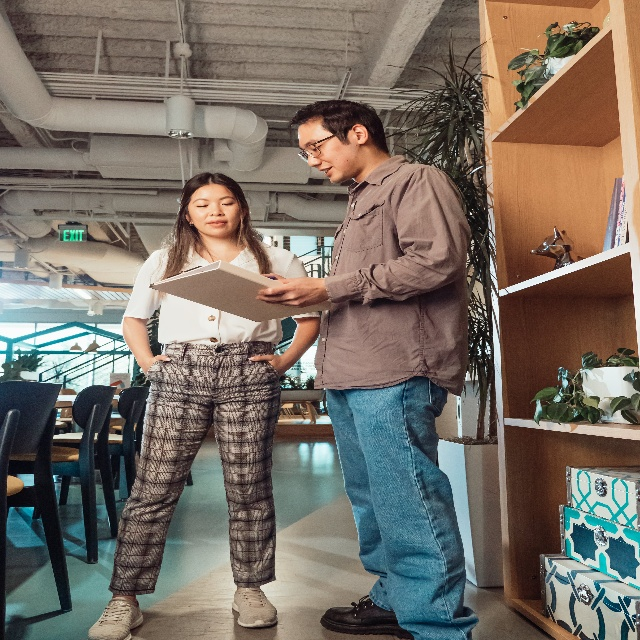Gafas: (298, 129, 346, 163)
Sin_guantes: (255, 277, 326, 309), (248, 353, 286, 377), (145, 354, 171, 376)
